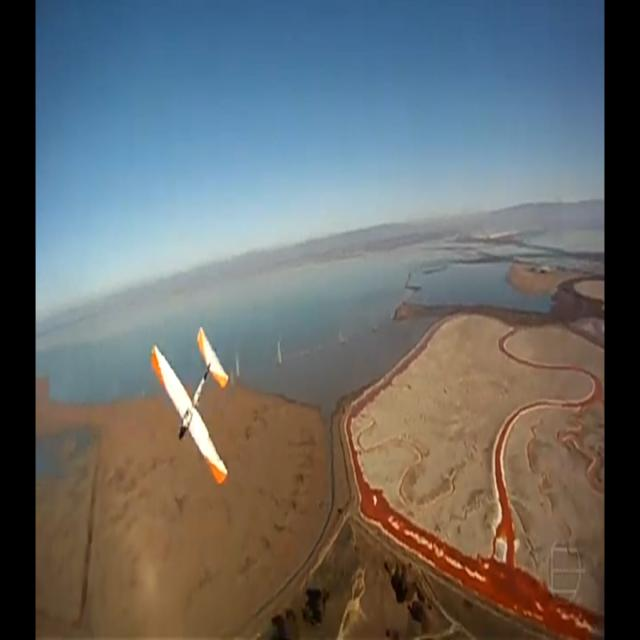iha: (182, 325, 199, 488)
